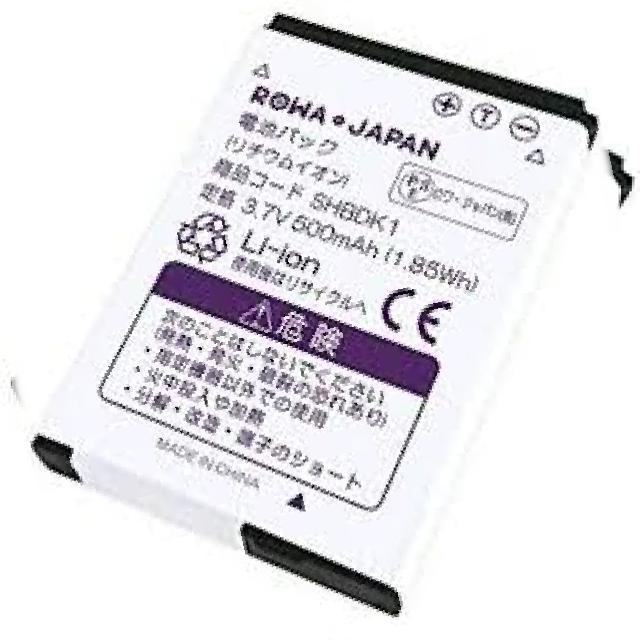Battery: (26, 8, 602, 640)
